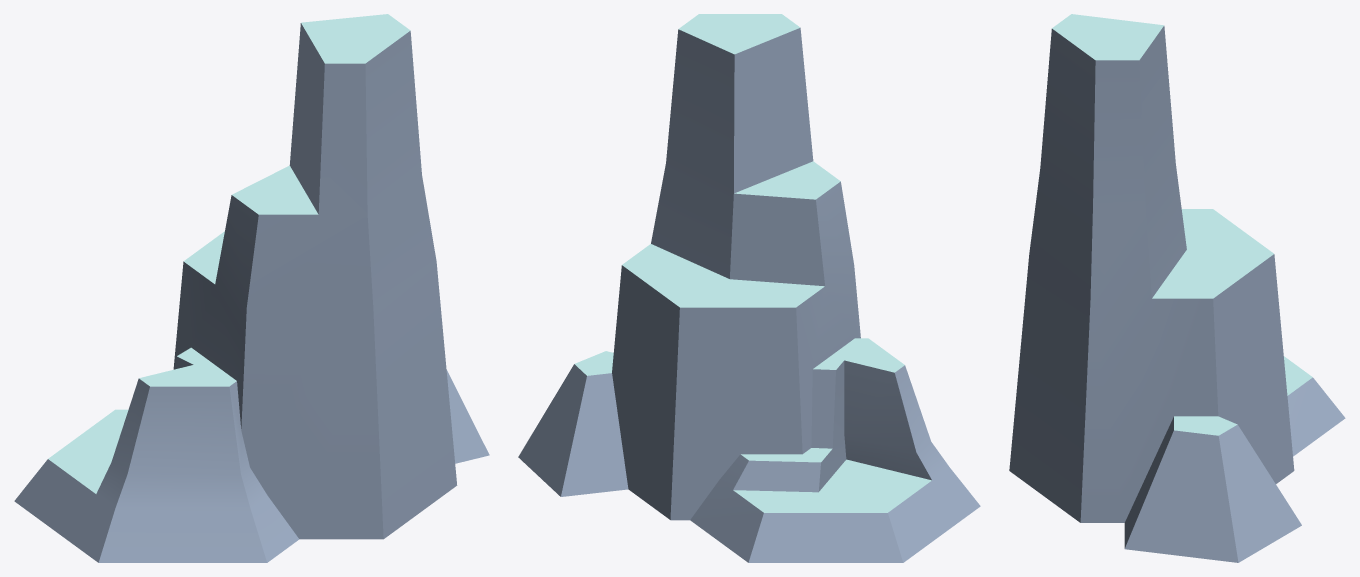
Rendered from rockFormationLarge.fbx.
3 renders of one model, left to right at view 1: azimuth 30°, elevation 25°; view 2: azimuth 150°, elevation 25°; view 3: azimuth 270°, elevation 25°, orthographic. The views are drawn at different scales.
Visible parts, largest first — view 1: rockFormationLarge; view 2: rockFormationLarge; view 3: rockFormationLarge.
Boxes of the visible parts, x1=… form: rockFormationLarge: x1=14, y1=14, x2=489, y2=562; rockFormationLarge: x1=518, y1=14, x2=980, y2=562; rockFormationLarge: x1=1009, y1=14, x2=1345, y2=562.
Bounding box in the file's own units: 9.23 × 9.35 × 6.42.
